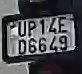1: (38, 18, 45, 36)
4: (47, 35, 59, 52), (48, 16, 58, 35)
6: (37, 35, 48, 53), (27, 37, 38, 54)
9: (58, 35, 69, 51)
D: (19, 39, 28, 55)
E: (56, 13, 69, 35)
P: (25, 18, 38, 37)
U: (17, 20, 27, 39)
